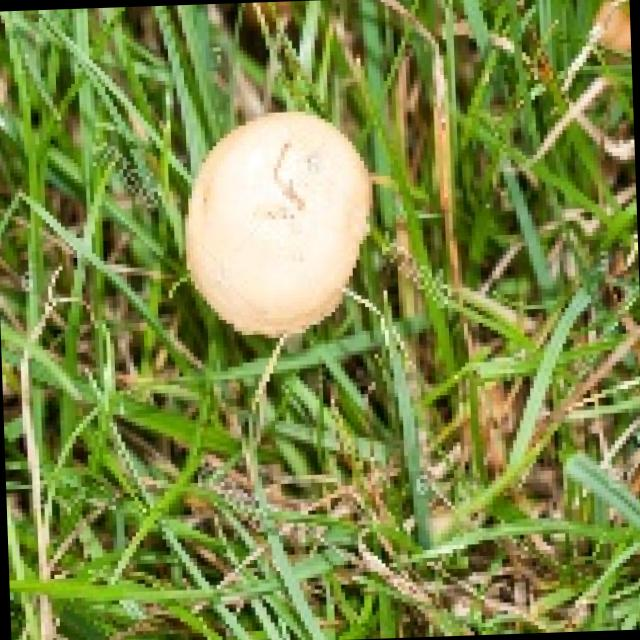mushroom: (172, 85, 386, 360)
